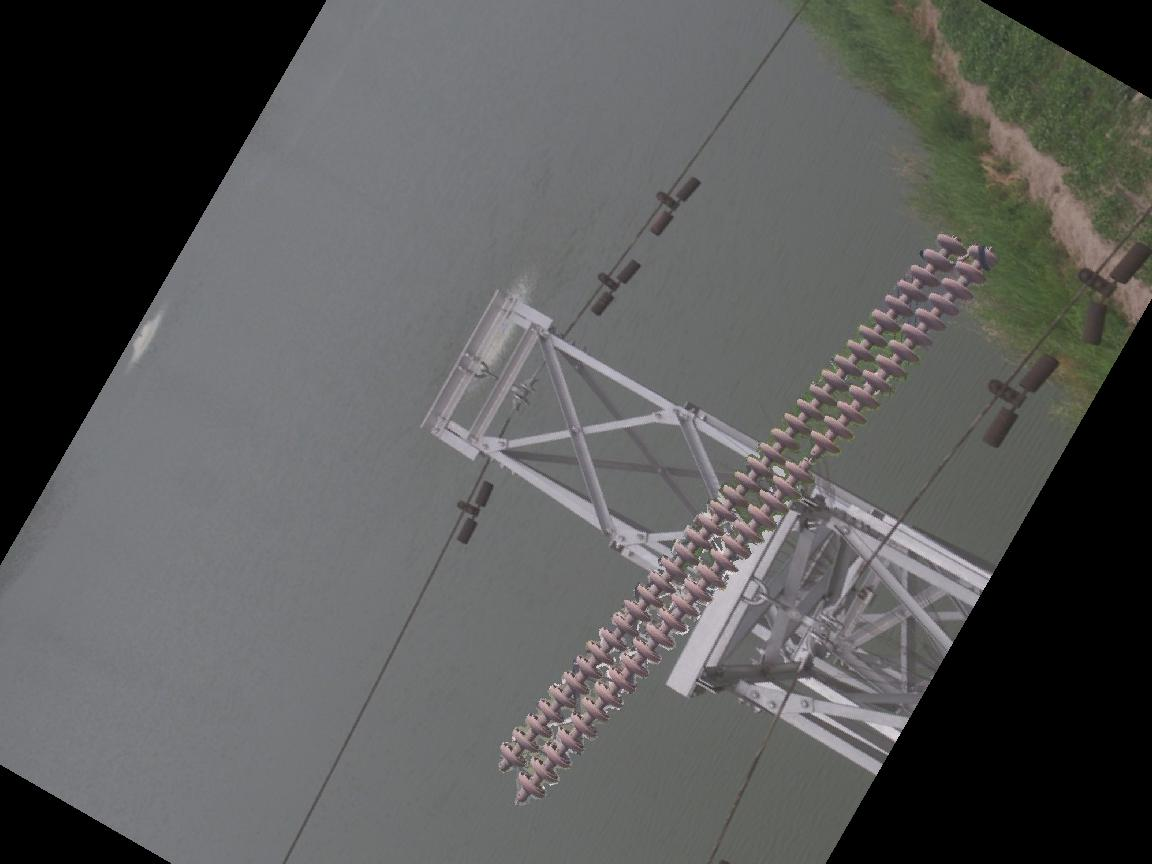insulator: (496, 231, 998, 803)
insulator_stringdrop: (783, 427, 842, 488)
